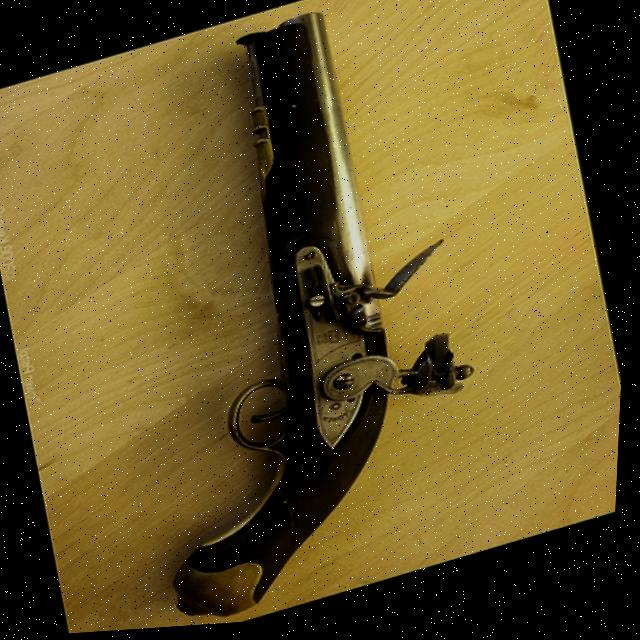pistol: (55, 0, 532, 636)
